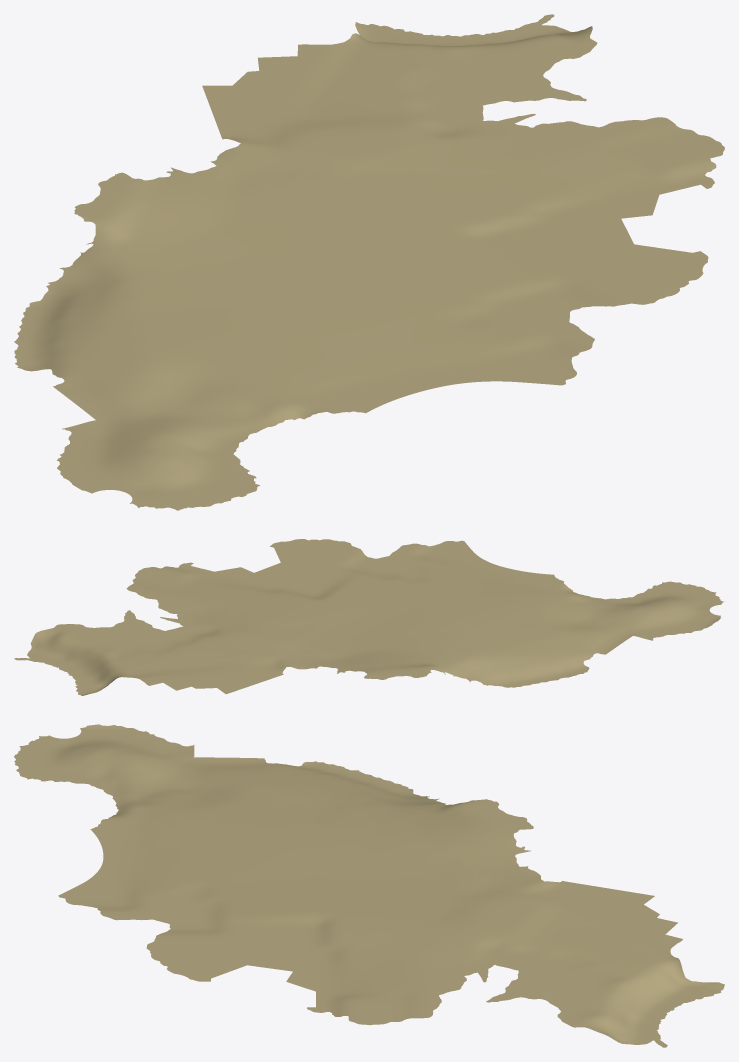
Rendered from terrain.glb.
3 renders of one model, top to bottom at view 1: azimuth 30°, elevation 25°; view 2: azimuth 150°, elevation 25°; view 3: azimuth 270°, elevation 25°, orthographic. The views are drawn at different scales.
Parts seen in each view (by area): view 1: Component#433 (C-Component#509); view 2: Component#433 (C-Component#509); view 3: Component#433 (C-Component#509).
Part boxes in pixels (bbox=[...]): Component#433 (C-Component#509): bbox=[14, 14, 724, 510]; Component#433 (C-Component#509): bbox=[14, 539, 724, 695]; Component#433 (C-Component#509): bbox=[14, 724, 724, 1047].
Size of the model in its own units: 115 by 4.27 by 108.
